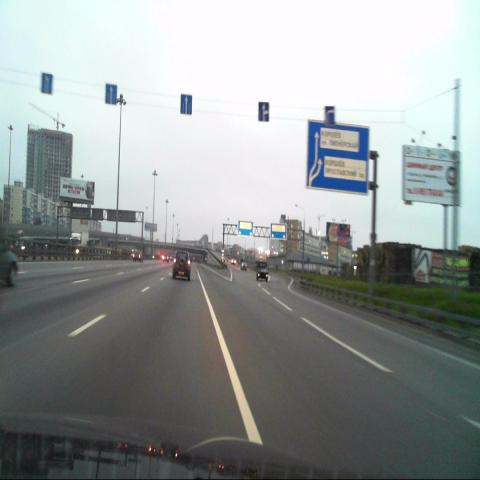5_15_2: (180, 93, 193, 116), (40, 73, 53, 95), (106, 84, 118, 105)
